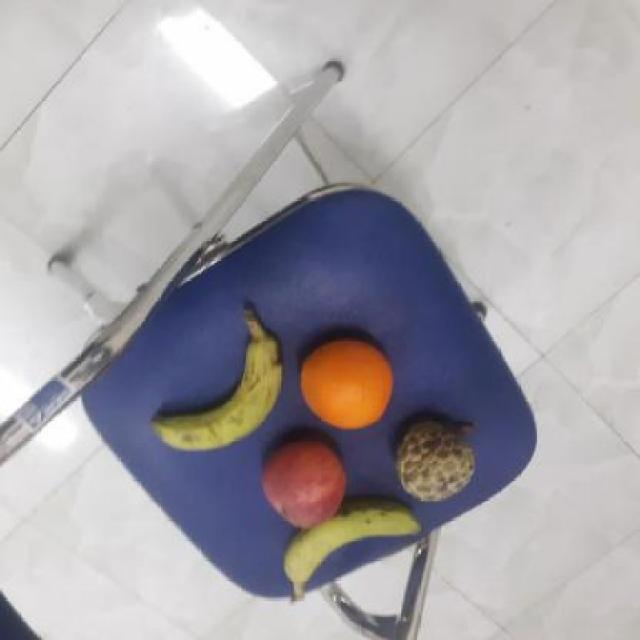apple: (257, 434, 351, 528)
banana: (150, 337, 288, 452), (278, 503, 432, 592)
oren: (294, 334, 398, 432)
sugar apple: (392, 419, 476, 506)
